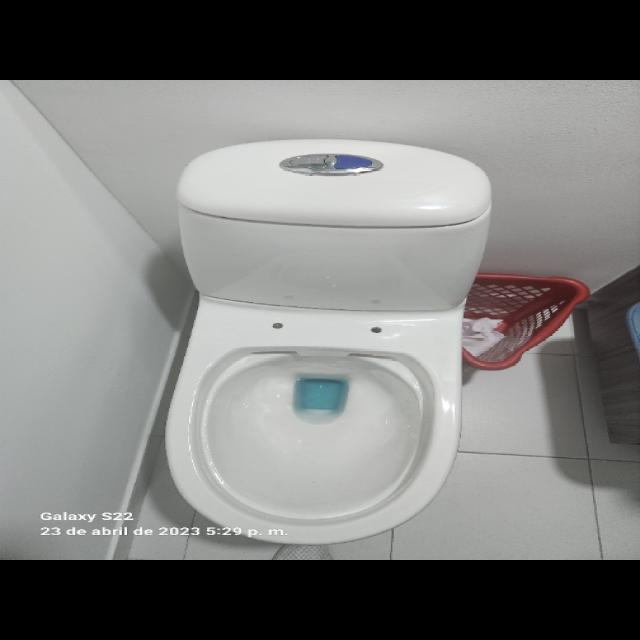toilet: (162, 137, 492, 545)
